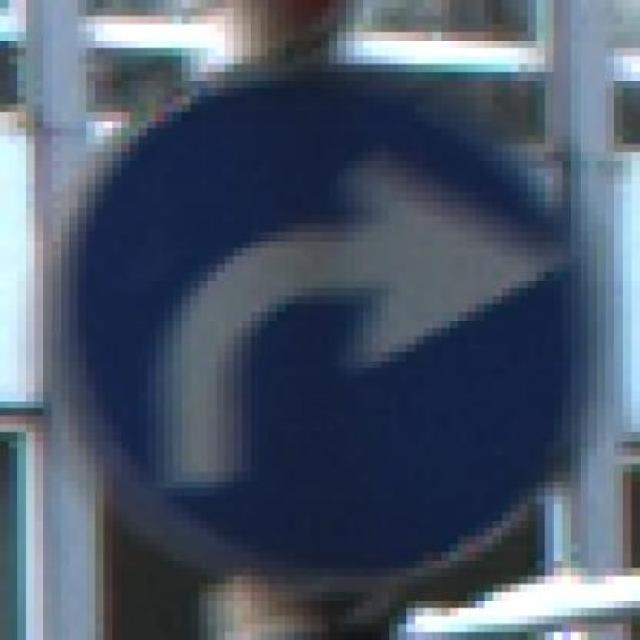Turn right ahead: (26, 72, 597, 592)
